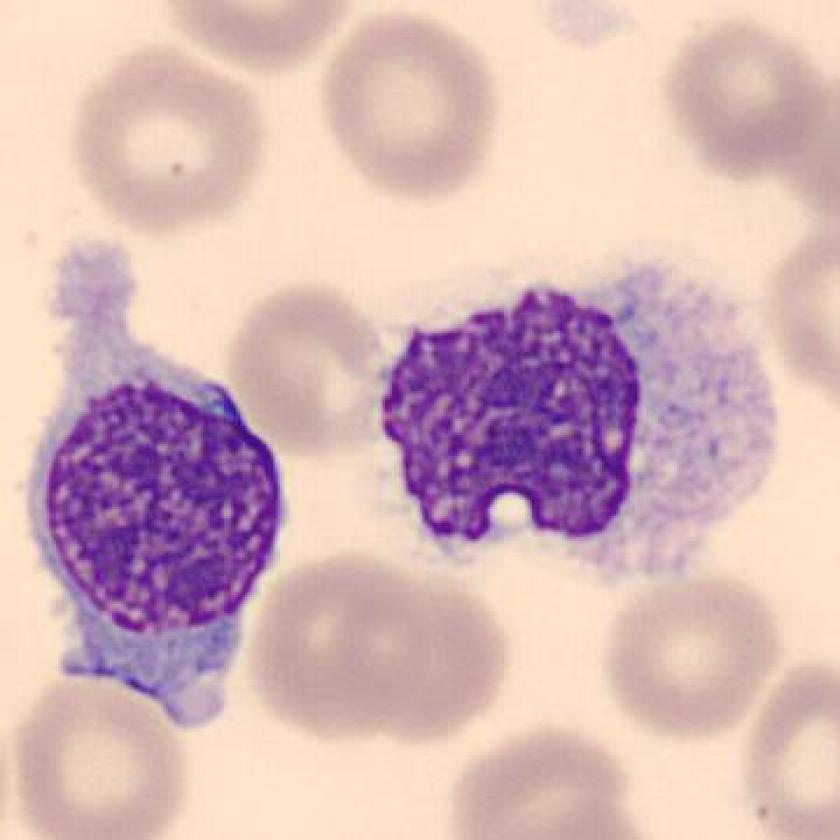monocyte: (353, 260, 799, 598)
